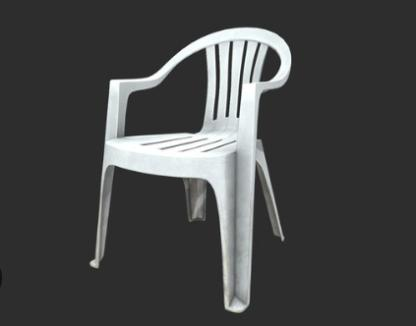chair: (91, 18, 296, 304)
